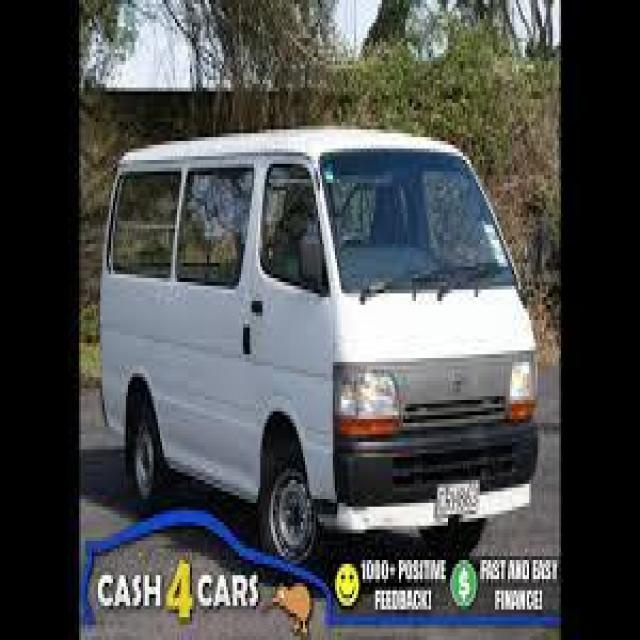Van: (98, 134, 548, 556)
